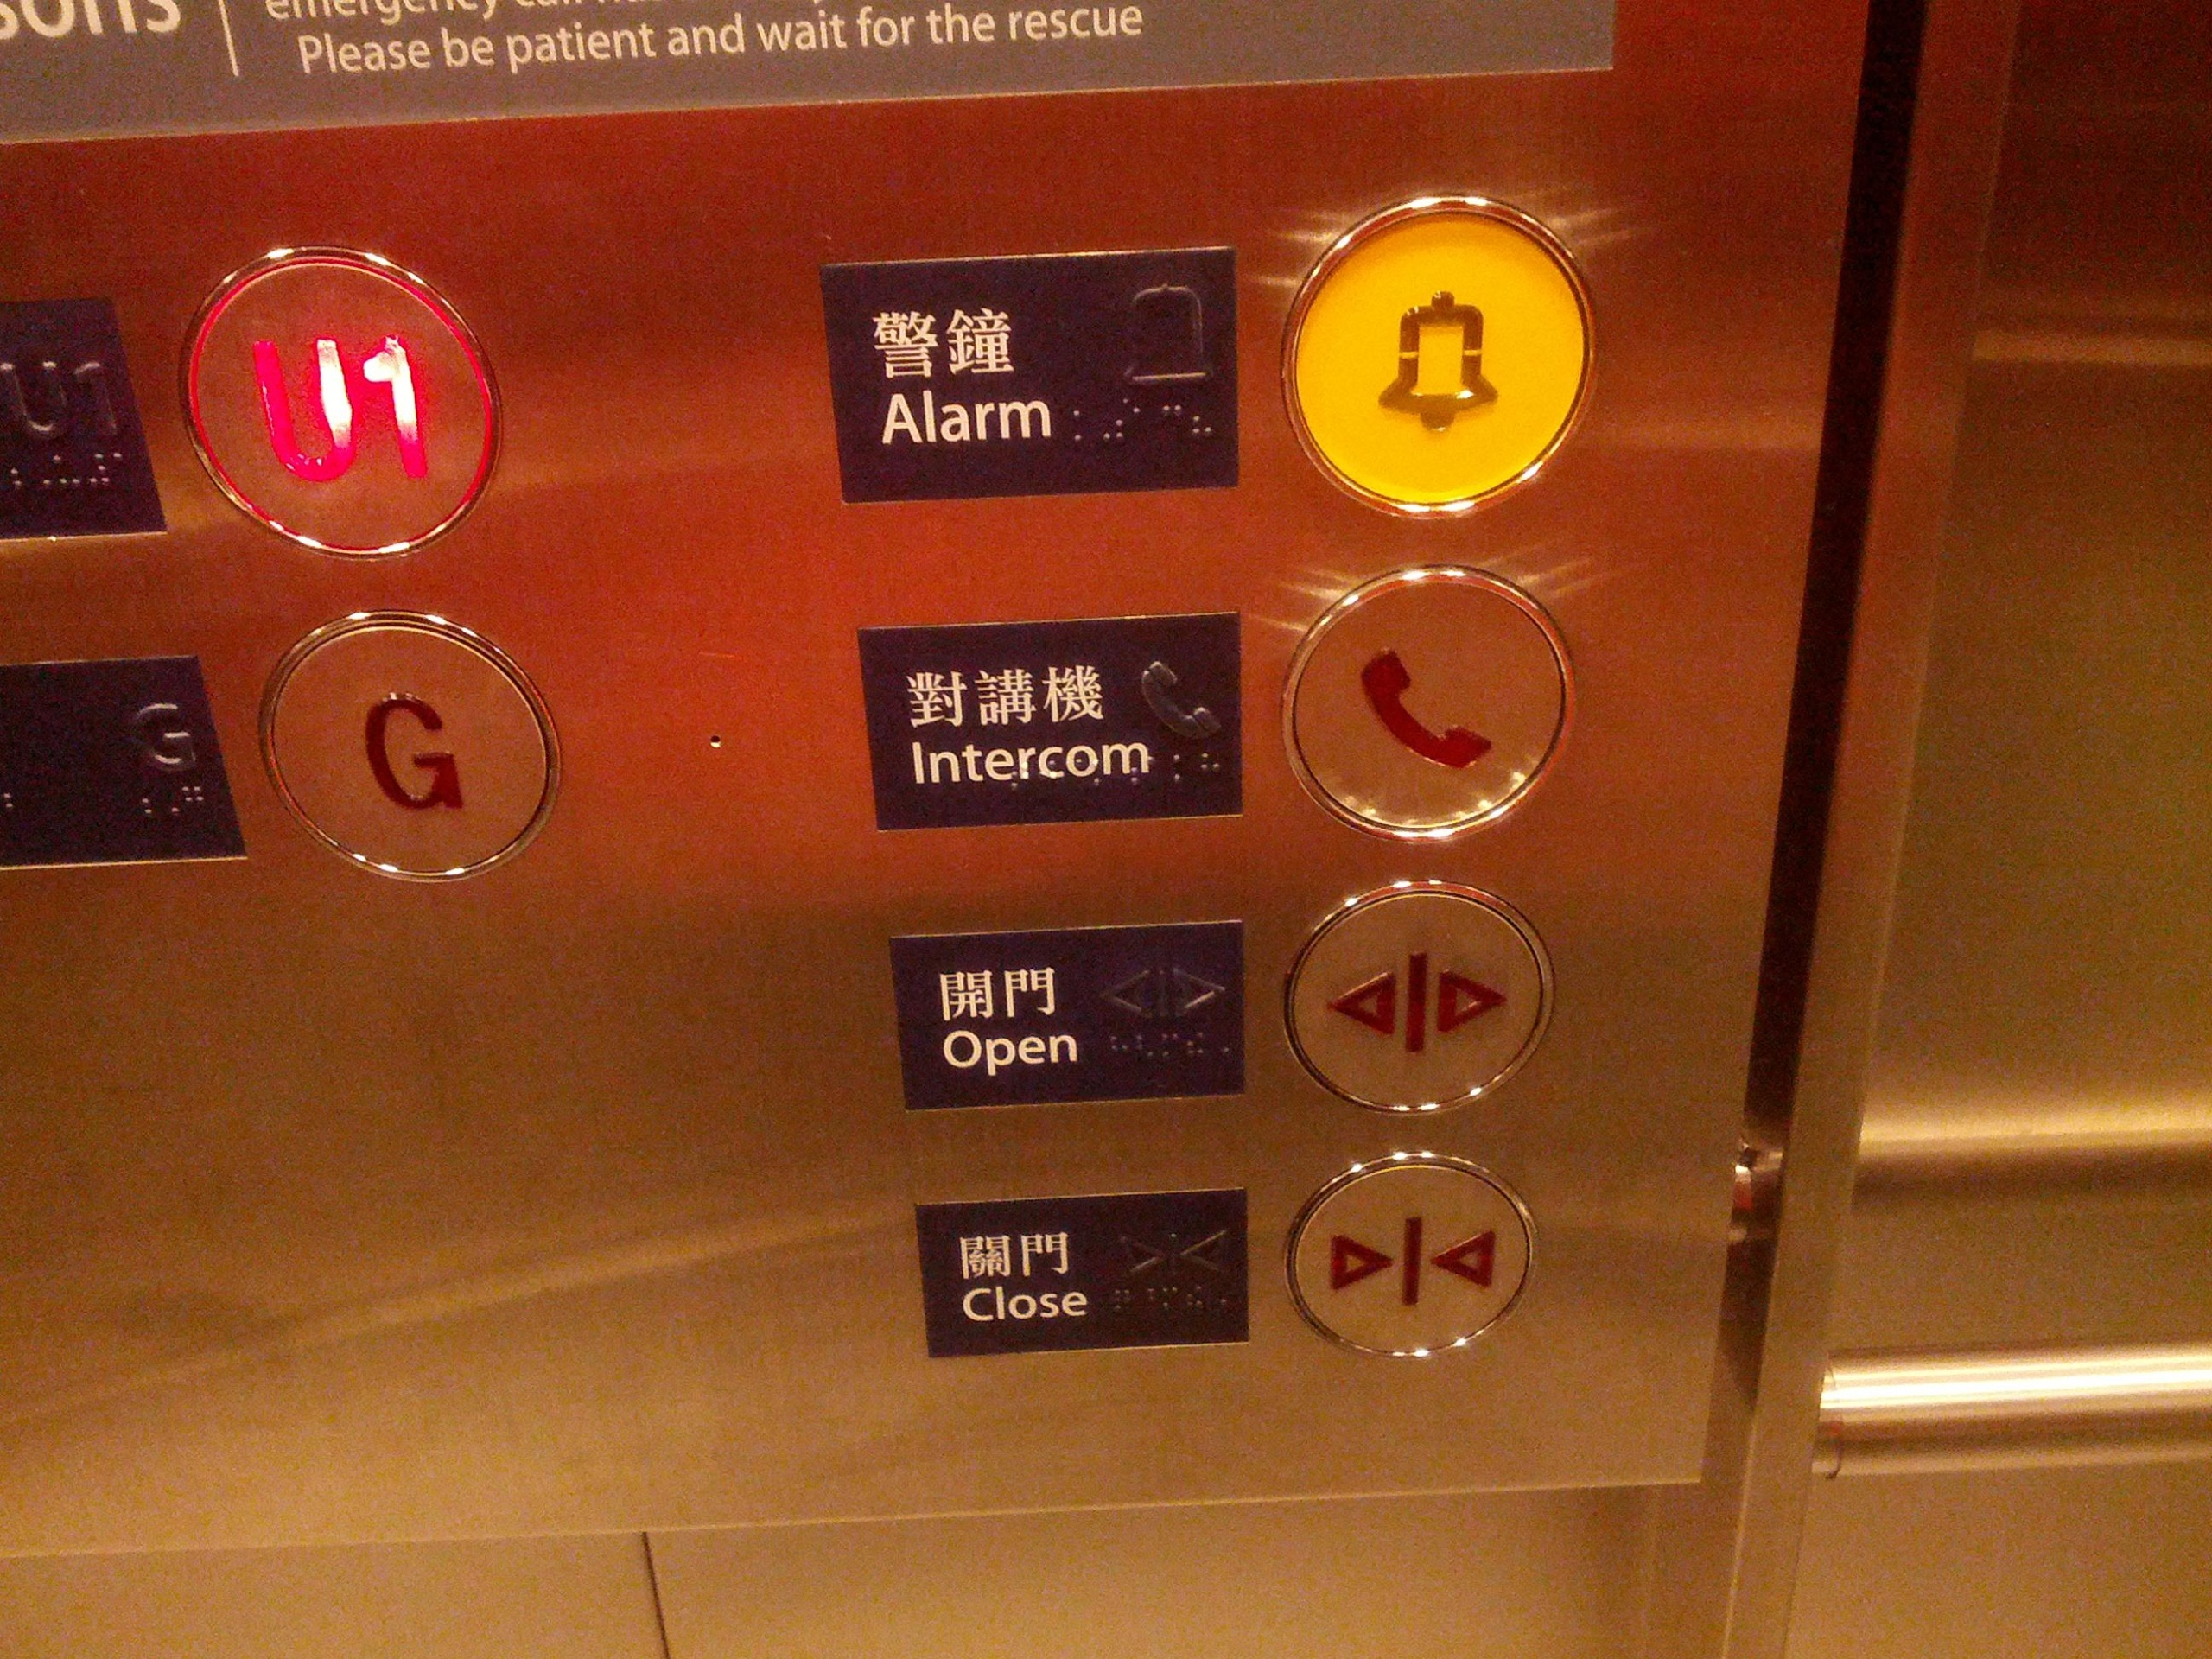G: (256, 606, 566, 896)
U1: (179, 232, 498, 566)
alarm: (1273, 188, 1604, 528)
call: (1271, 558, 1583, 854)
close: (1275, 1141, 1541, 1371)
open: (1271, 873, 1564, 1124)
text_alarm: (810, 242, 1249, 511)
text_close: (906, 1180, 1256, 1368)
text_intercom: (852, 608, 1249, 836)
text_open: (880, 918, 1258, 1119)
